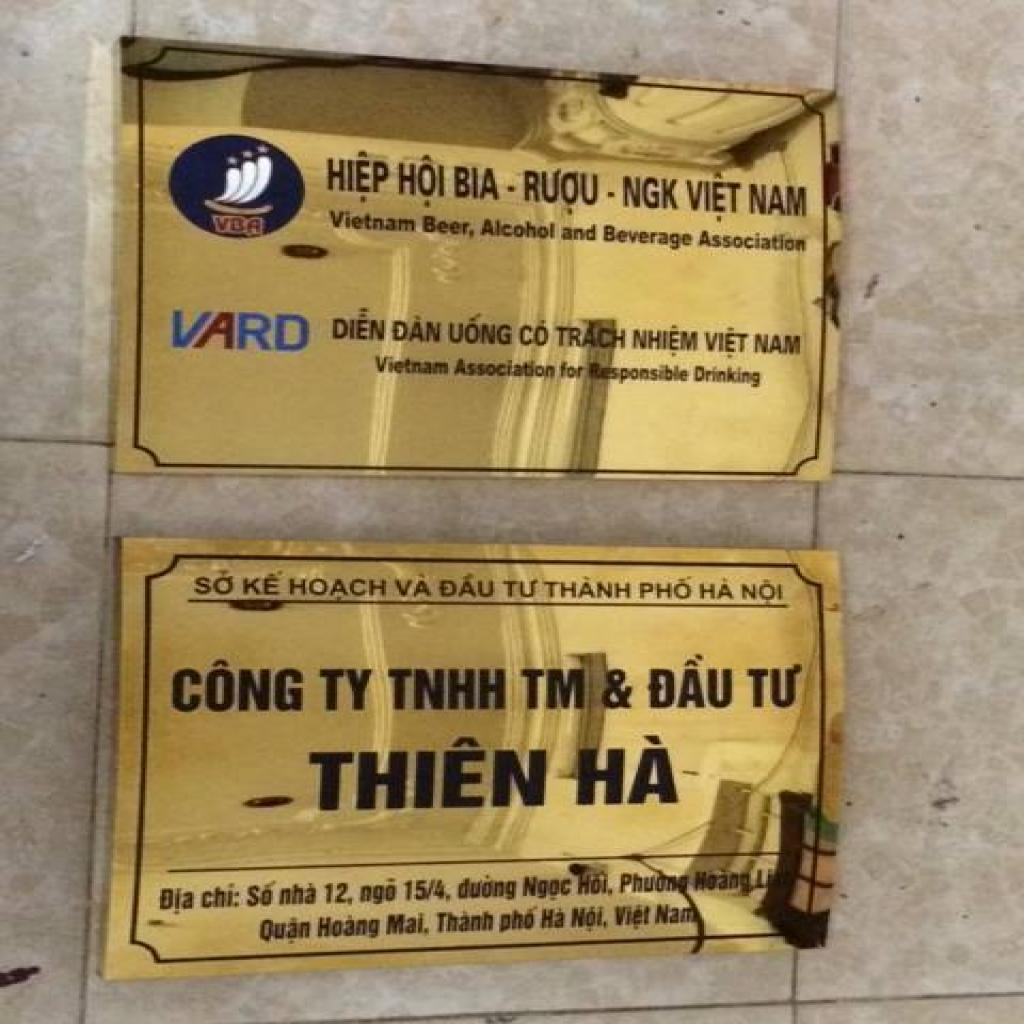text: (308, 736, 550, 813), (572, 733, 687, 806), (166, 658, 310, 715), (170, 307, 316, 354), (646, 653, 736, 712), (388, 669, 510, 712), (326, 147, 392, 208), (522, 168, 600, 216), (684, 168, 746, 226), (397, 150, 448, 212), (602, 224, 696, 254), (318, 667, 377, 714), (747, 662, 804, 710), (698, 230, 808, 254), (631, 323, 702, 360), (522, 669, 586, 710), (288, 578, 390, 603), (587, 362, 691, 386), (748, 182, 810, 220), (544, 574, 634, 600), (329, 208, 418, 234), (448, 312, 514, 347), (454, 357, 559, 379), (623, 174, 680, 213), (555, 320, 629, 350), (331, 306, 390, 342), (619, 869, 693, 896), (482, 216, 557, 242), (454, 165, 504, 203), (316, 914, 382, 942), (258, 915, 316, 946), (458, 874, 520, 902), (696, 867, 755, 896), (693, 365, 764, 389), (704, 326, 753, 360), (374, 355, 452, 376), (435, 909, 499, 934), (392, 314, 444, 344), (599, 668, 636, 710), (523, 874, 574, 904), (440, 573, 497, 598), (403, 878, 457, 904), (192, 568, 239, 597), (495, 906, 540, 936), (422, 214, 478, 238), (640, 576, 695, 600), (358, 878, 401, 908), (755, 331, 804, 357), (614, 902, 655, 933), (211, 214, 267, 236), (576, 870, 617, 900), (386, 912, 433, 938), (241, 570, 286, 596), (568, 906, 612, 932), (742, 580, 785, 606), (393, 572, 435, 598), (201, 884, 243, 910), (518, 318, 552, 349), (246, 878, 280, 909), (160, 888, 196, 917), (279, 882, 320, 907), (700, 578, 738, 602), (501, 578, 542, 600), (322, 882, 356, 907), (540, 906, 567, 932), (561, 224, 597, 243), (561, 360, 589, 381)
